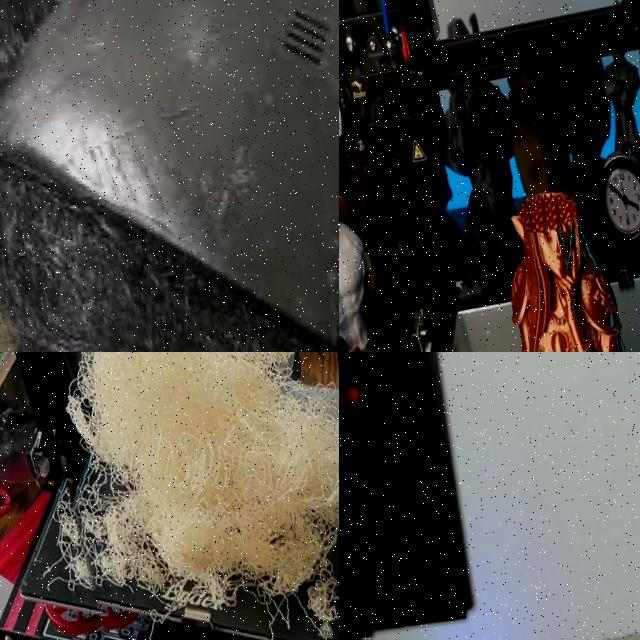spaghetti: (64, 352, 339, 640)
